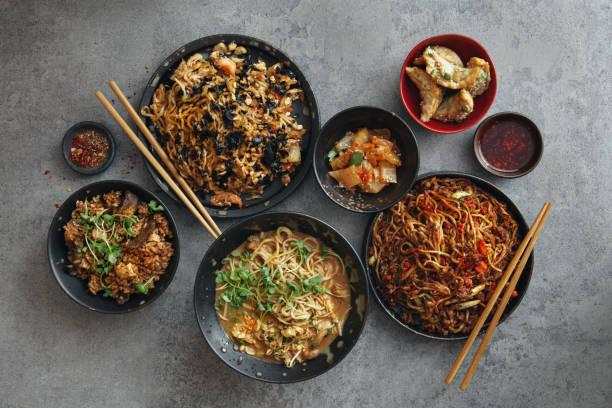Braised Crucian Carp: (134, 33, 314, 217), (193, 211, 365, 383), (364, 172, 532, 341), (45, 179, 179, 313), (312, 104, 418, 212), (399, 33, 497, 135)
